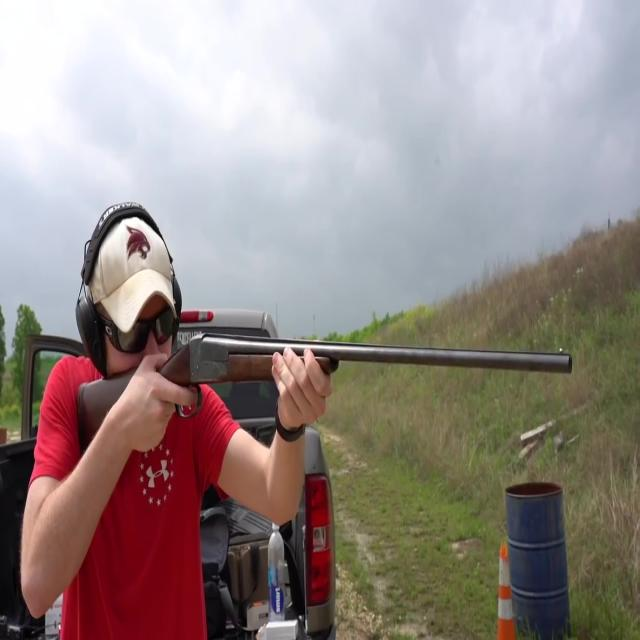Weapon: (62, 323, 588, 502)
